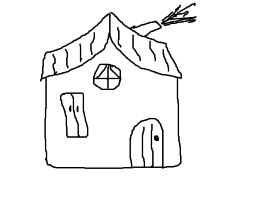chimney: (124, 1, 209, 39)
closed_window: (55, 86, 93, 141), (89, 60, 124, 95)
door: (119, 108, 174, 175)
roof: (26, 8, 194, 81)
wall: (39, 75, 186, 175)
